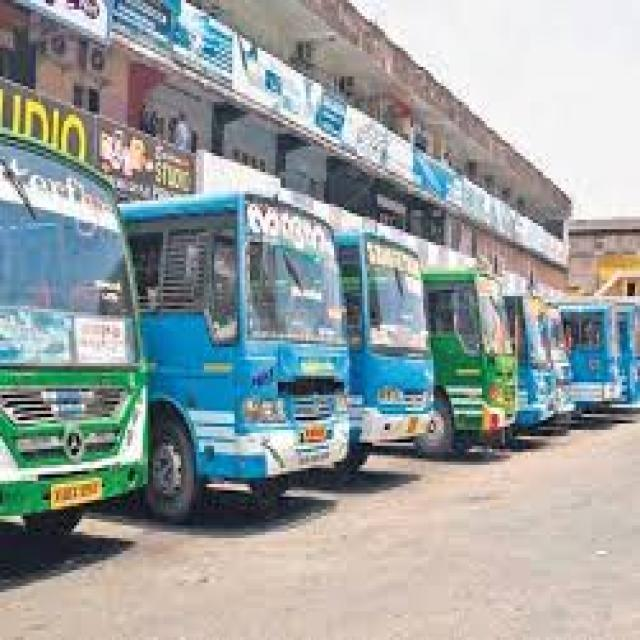bus ahead at: (141, 193, 349, 505), (1, 128, 146, 528), (356, 227, 434, 450), (439, 268, 518, 456), (571, 304, 625, 411)
